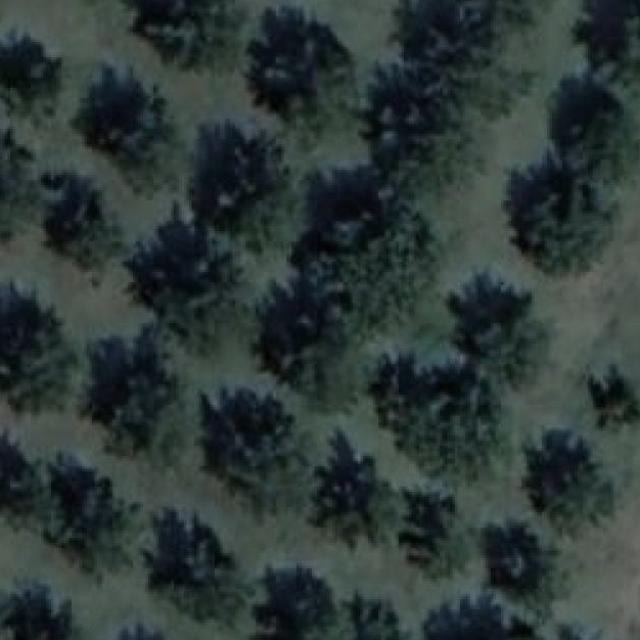Tree: (501, 76, 640, 275), (292, 165, 438, 342), (363, 352, 514, 489), (126, 203, 243, 360), (245, 6, 361, 149), (77, 334, 189, 479), (197, 388, 310, 524), (363, 68, 473, 206), (184, 118, 294, 252), (70, 62, 182, 190), (432, 272, 550, 393), (253, 282, 359, 415), (141, 505, 246, 612), (394, 0, 540, 76), (520, 425, 614, 536), (312, 433, 399, 549), (0, 282, 72, 418), (123, 0, 245, 73), (46, 472, 131, 574), (36, 170, 110, 272), (569, 0, 640, 100), (0, 27, 70, 128), (261, 568, 335, 640), (574, 361, 640, 436), (409, 497, 473, 568), (426, 599, 526, 640), (481, 533, 550, 589), (0, 137, 31, 249), (0, 592, 70, 640), (0, 440, 39, 522), (351, 599, 412, 640), (105, 614, 170, 640), (542, 616, 612, 640)
